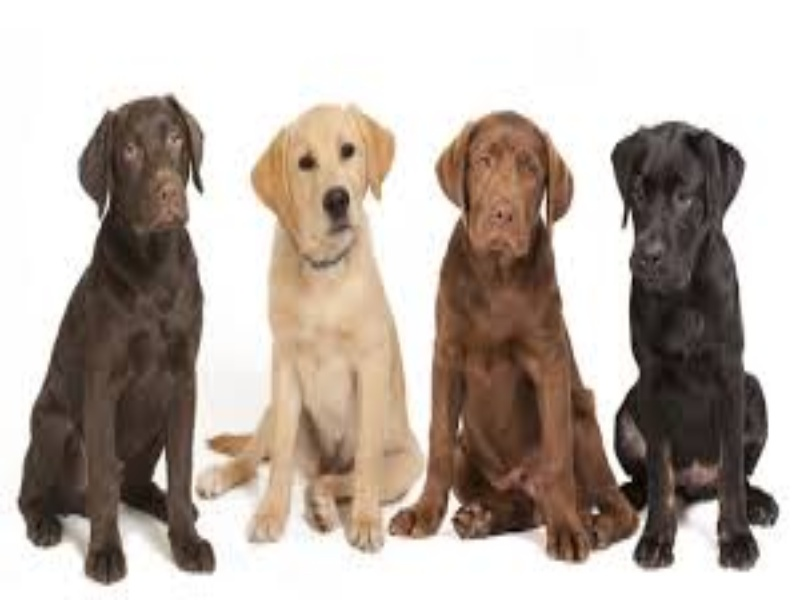dog: (17, 57, 236, 585), (200, 65, 430, 555), (581, 81, 789, 578), (412, 78, 615, 570)
